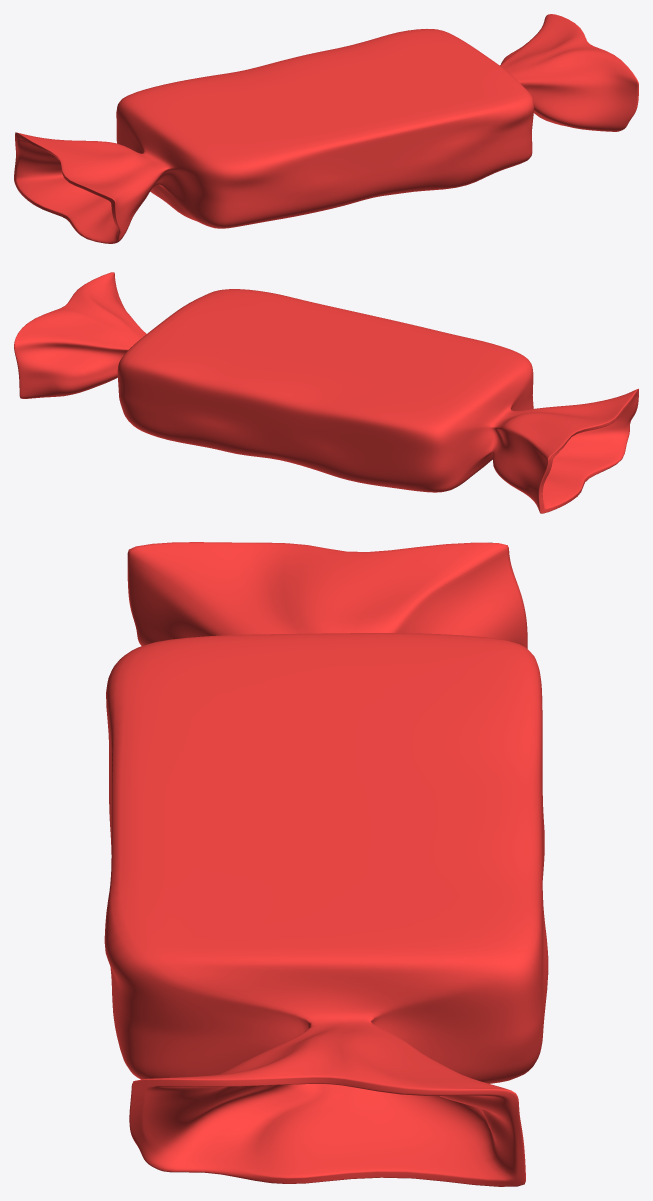
Rendered from candyskill.fbx.
3 views of the same model, one above another, from view 1: azimuth 30°, elevation 25°; view 2: azimuth 150°, elevation 25°; view 3: azimuth 270°, elevation 25° (orthographic). The views are drawn at different scales.
Parts seen in each view (by area): view 1: Cube.004; view 2: Cube.004; view 3: Cube.004.
Boxes of the visible parts, x1,y1,x2,y2 form: Cube.004: (14,14,638,243); Cube.004: (14,272,638,513); Cube.004: (104,542,548,1186).
Bounding box in the file's own units: 353 × 52.13 × 124.
